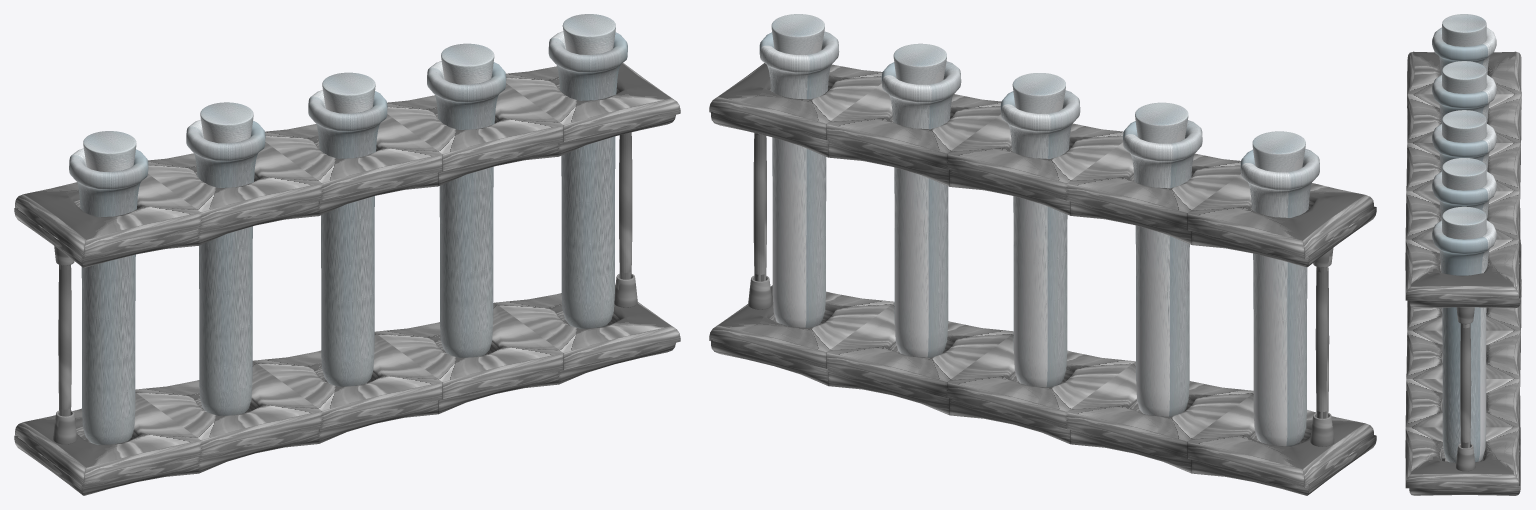
3 renders of one model, left to right at view 1: azimuth 30°, elevation 25°; view 2: azimuth 150°, elevation 25°; view 3: azimuth 270°, elevation 25°, orthographic. The views are drawn at different scales.
Parts seen in each view (by area): view 1: polySurface13, polySurface15, polySurface22; view 2: polySurface13, polySurface15, polySurface22; view 3: polySurface13, polySurface15, polySurface22.
Part boxes in pixels (x1,y1,x2,y2): polySurface13: [14, 63, 680, 495]; polySurface15: [69, 14, 627, 444]; polySurface22: [441, 43, 494, 84]; polySurface13: [709, 63, 1376, 495]; polySurface15: [759, 14, 1319, 446]; polySurface22: [893, 43, 946, 84]; polySurface13: [1405, 51, 1521, 495]; polySurface15: [1432, 14, 1496, 462]; polySurface22: [1442, 158, 1486, 190].
Bounding box in the file's own units: 11.03 × 5.64 × 2.25.
Materials: 3 (2 with a texture image).
